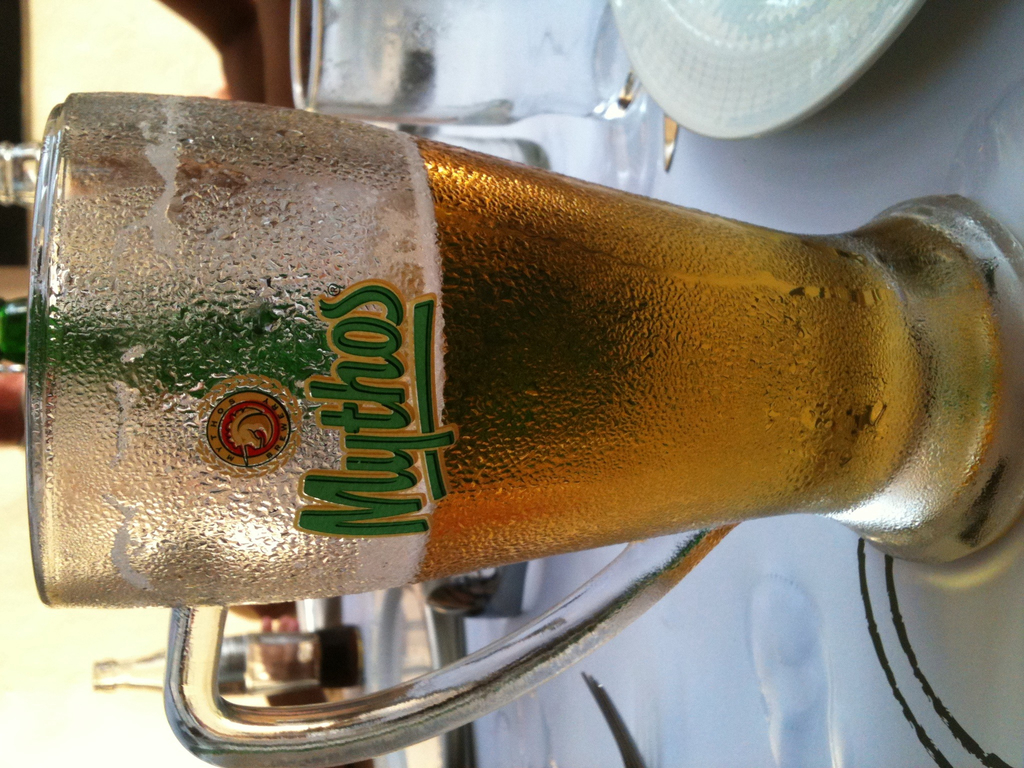Beer: (342, 136, 1006, 580)
